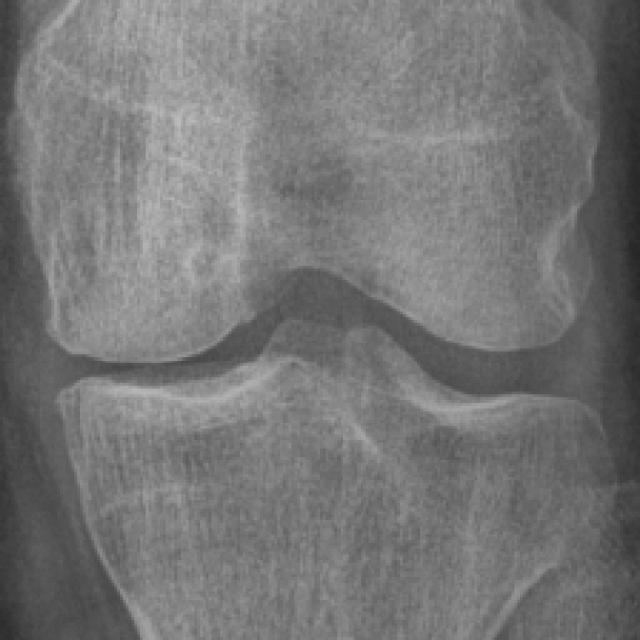femur: (6, 0, 601, 366)
tibia: (59, 319, 608, 636)
